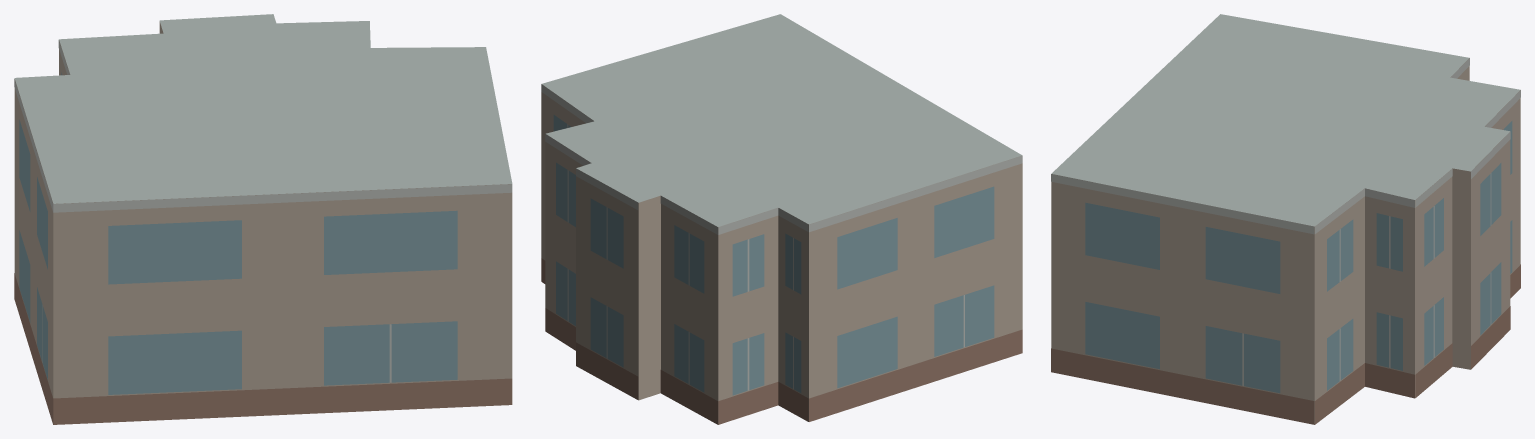
Rendered from survey-upis-32905362.glb.
3 views of the same model, side by side, from view 1: azimuth 30°, elevation 25°; view 2: azimuth 150°, elevation 25°; view 3: azimuth 270°, elevation 25° (orthographic). The views are drawn at different scales.
Visible parts, largest first — view 1: survey-upis-32905362.tmp; view 2: survey-upis-32905362.tmp; view 3: survey-upis-32905362.tmp.
Boxes of the visible parts, x1,y1,x2,y2 form: survey-upis-32905362.tmp: (14,14,512,424); survey-upis-32905362.tmp: (541,14,1022,424); survey-upis-32905362.tmp: (1051,14,1520,424).
Bounding box in the file's own units: 14.03 × 6.1 × 13.1.
